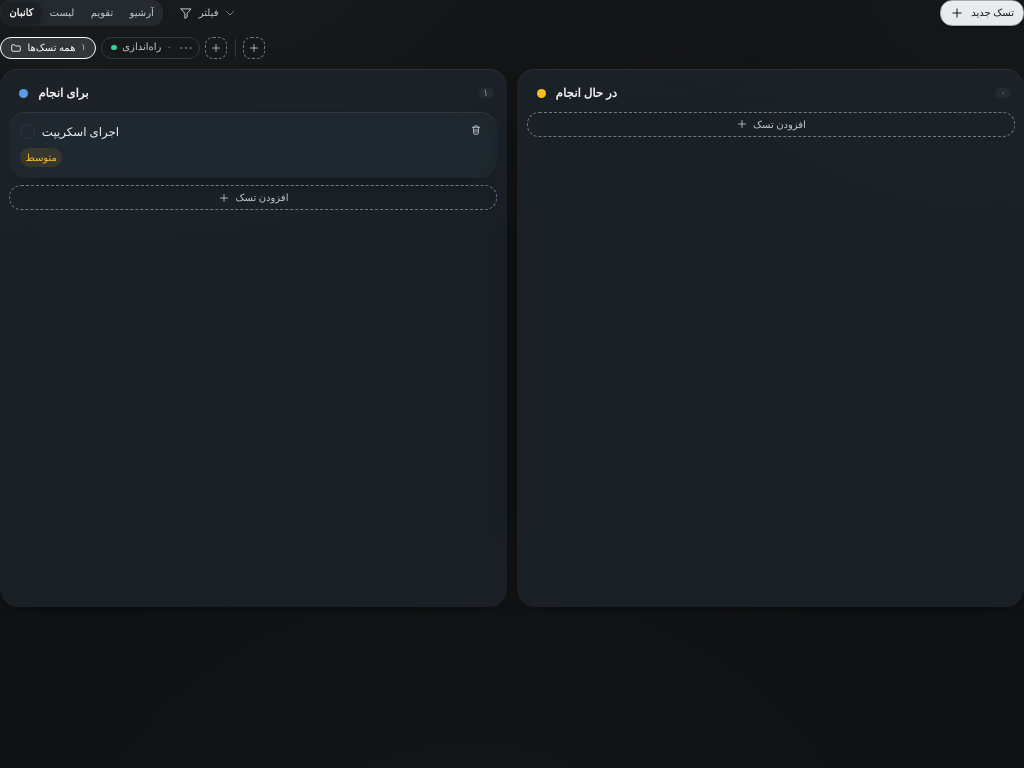
Test: the board's two doors into projects (2026-09-05) › opens the PROJECT dialog from the folder row's «+», for an admin only
The width and height of the screenshot is (1024, 768).
Expected: the button "برای انجام" is shown, [38,84,88,103]
Click the button named "پروژهٔ تازه" at x=254, y=48, box [243,37,265,58]
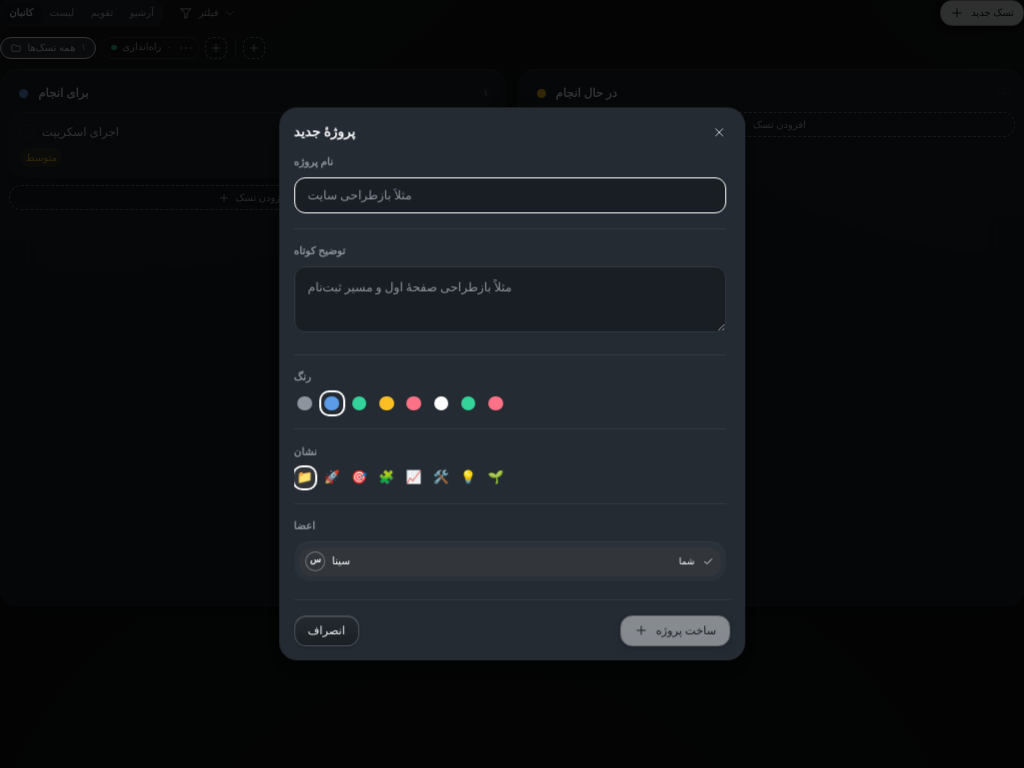
Now the dialog "پروژهٔ جدید" is shown, box [279,107,745,661]
Now the text "توضیح کوتاه" is shown, box [294,246,345,257]
